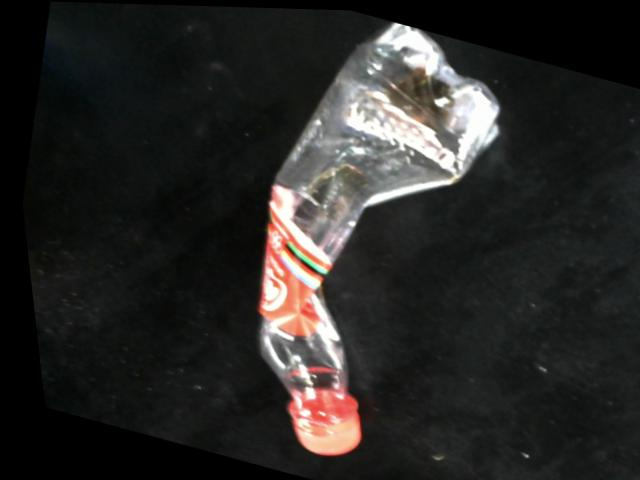bottle: (246, 18, 500, 457)
